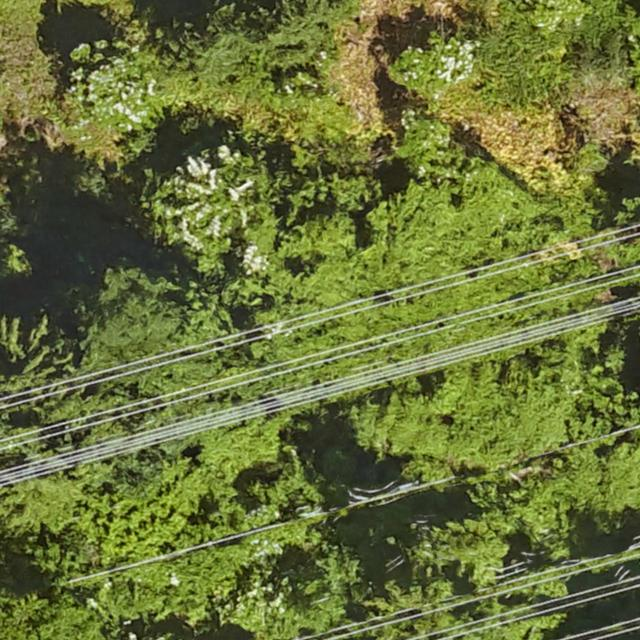tree: (300, 196, 610, 466), (2, 269, 253, 448), (132, 438, 342, 634), (365, 515, 566, 640), (394, 5, 566, 145), (145, 146, 289, 289), (187, 0, 339, 123), (66, 15, 197, 129)
